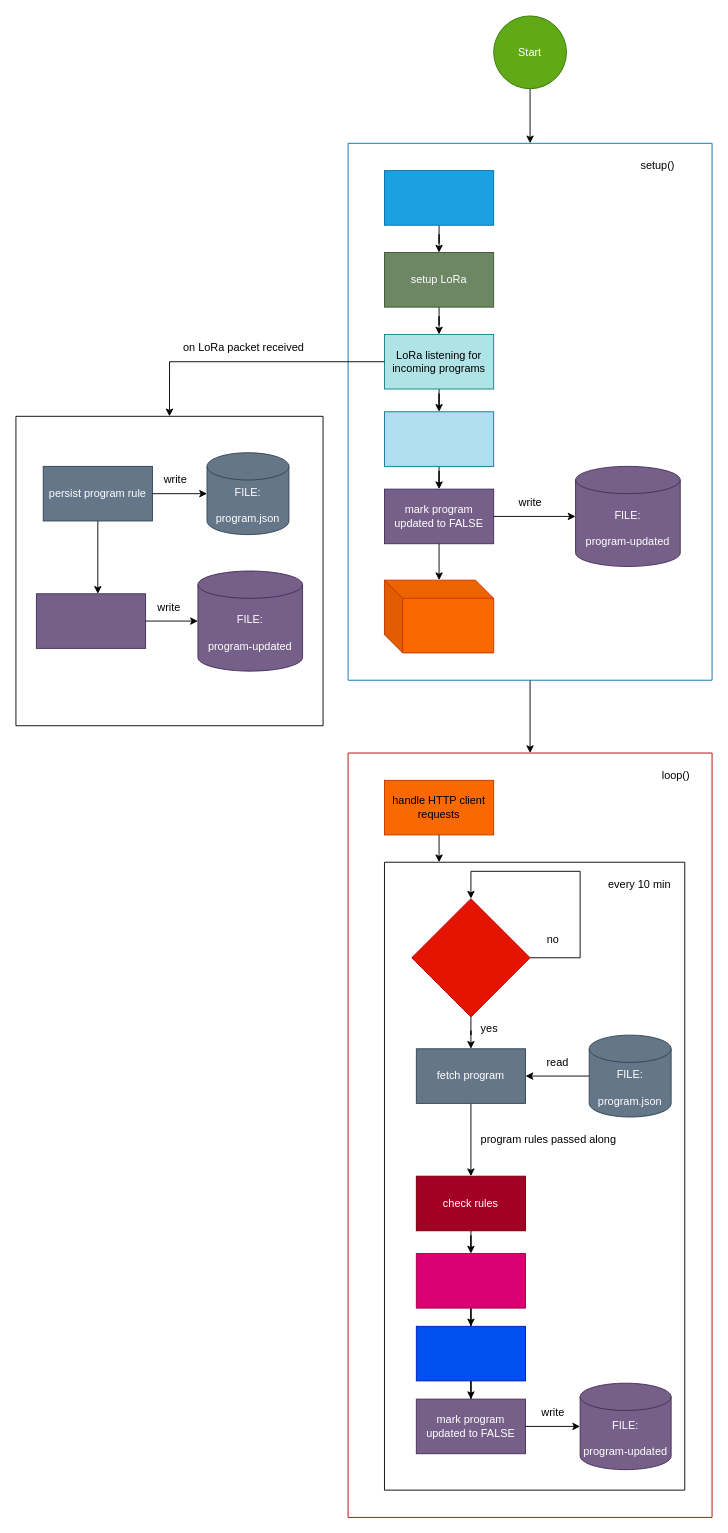
Image size: 728x1533. Some labels were removed from this diagram. Each missing label, with the centre of its shape:
"build LoRa payload for nodes" goes at point (470, 1280).
"connection to local WiFi" goes at point (439, 438).
"HTTP server configuration and startup" goes at point (439, 616).
"mark program updated to TRUE" goes at point (90, 620).
"prepare filesystem" goes at point (439, 197).
"program updated?" goes at point (470, 957).
"send payload to nodes via LoRa" goes at point (470, 1353).
